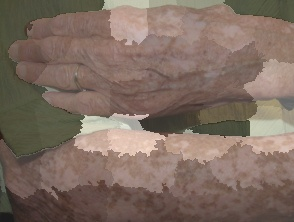vitiligo: (0, 129, 294, 221), (90, 7, 252, 104)
